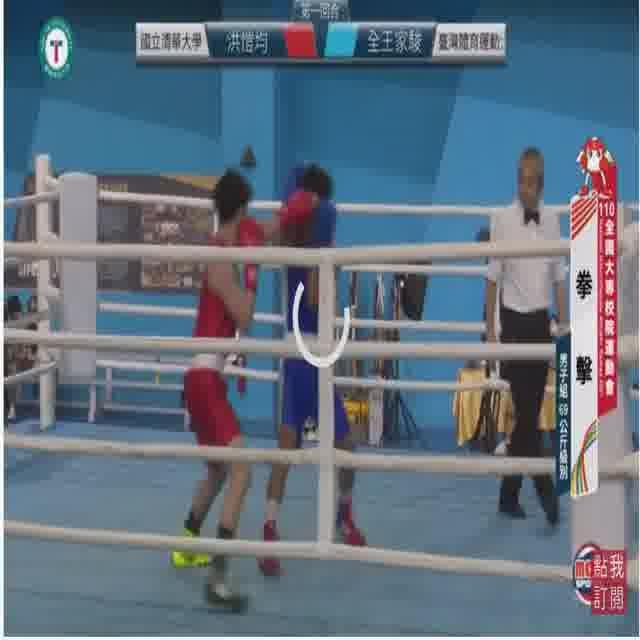blue-player: (254, 160, 370, 580)
red-player: (168, 168, 318, 618)
referee: (479, 144, 573, 531)
